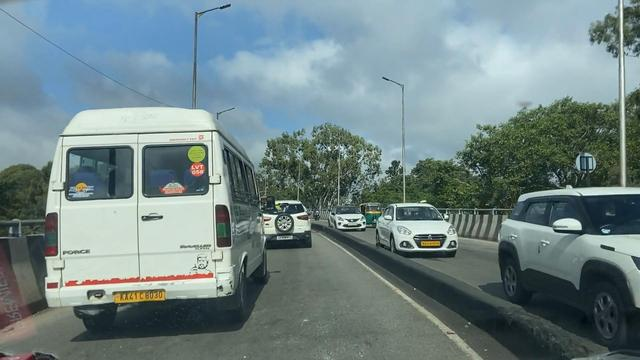HMV: (43, 109, 263, 318)
LMV: (261, 198, 313, 249)
